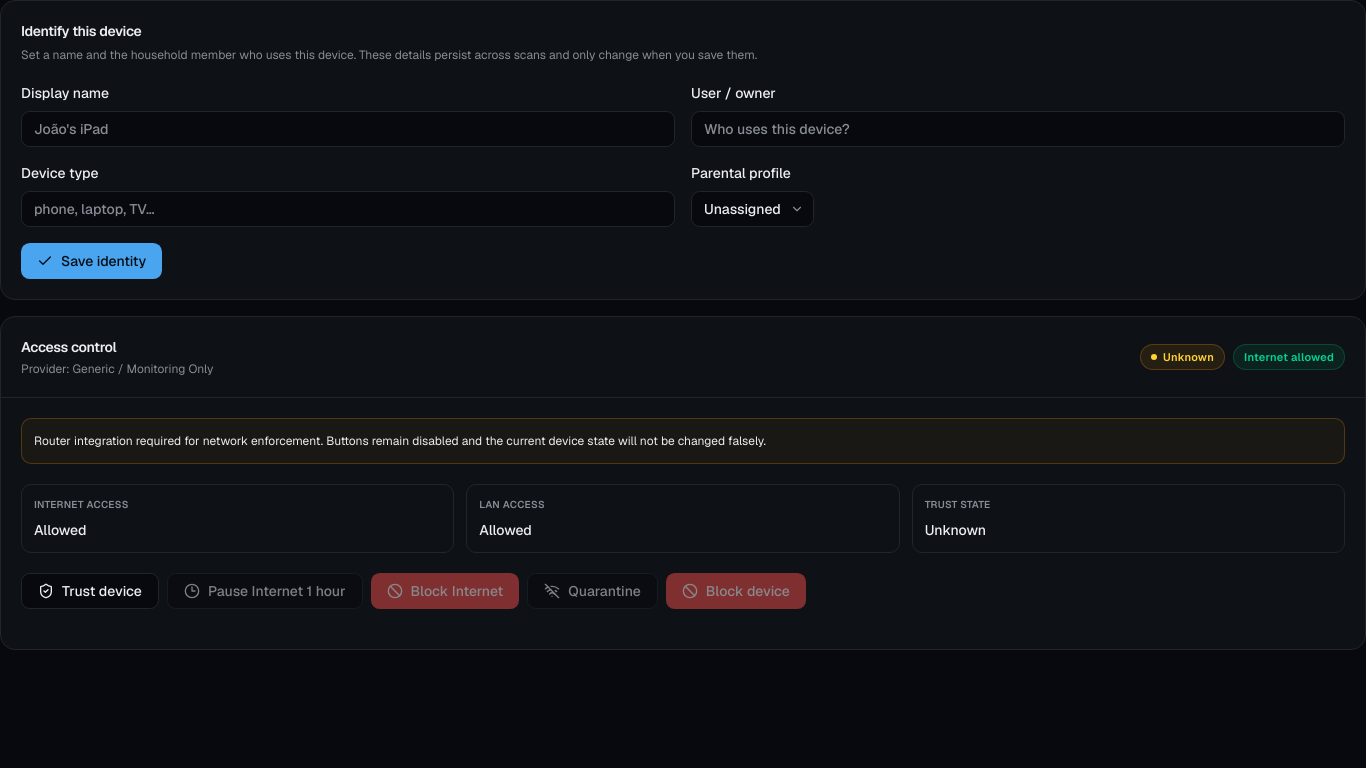
DeviceAccessPanel › keeps unsupported router actions disabled and saves a manual name
expect the button "Pause Internet 1 hour" is disabled: met, box [167,573,363,609]
Type "João's Tablet" into the field labelled "Display name" at (348, 129), box [21,111,675,147]
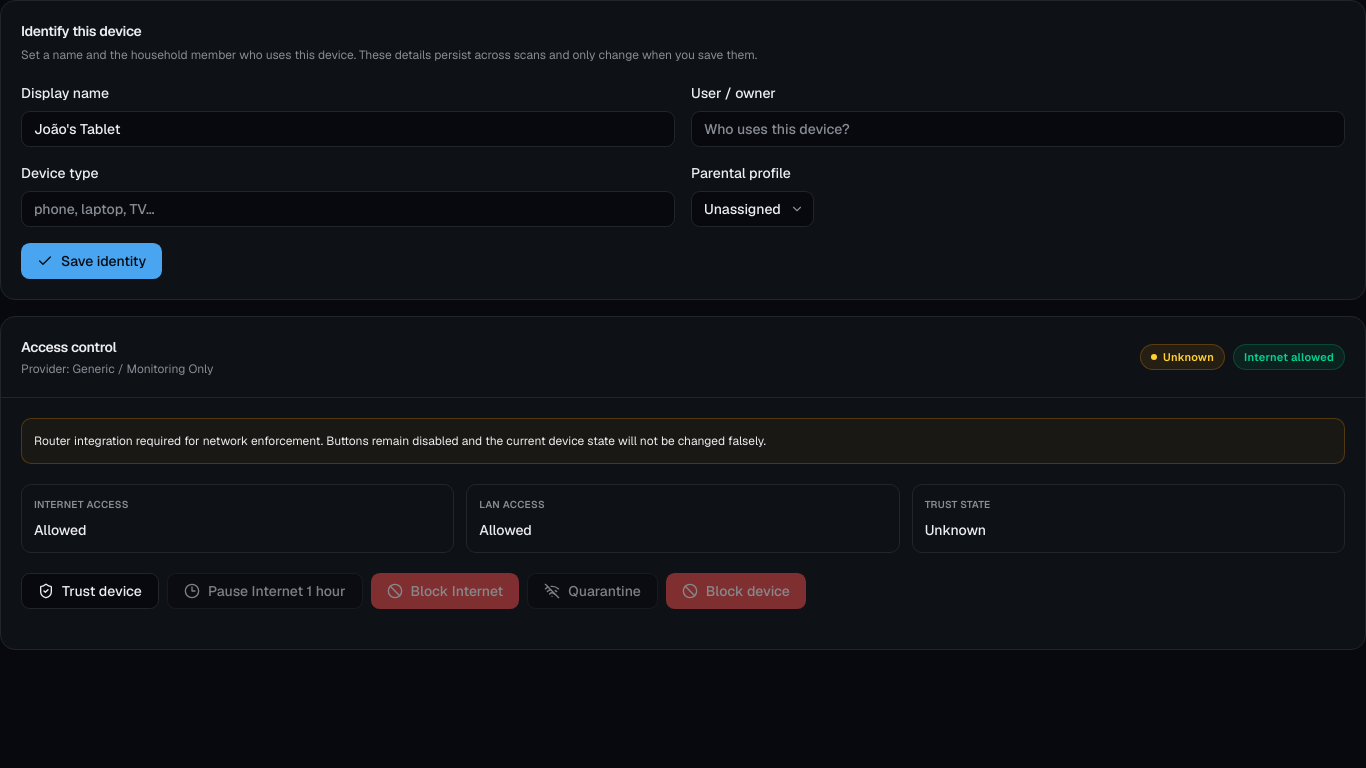
Select "Child" in the dropdown labelled "Parental profile" at (752, 209), box [691,191,814,227]
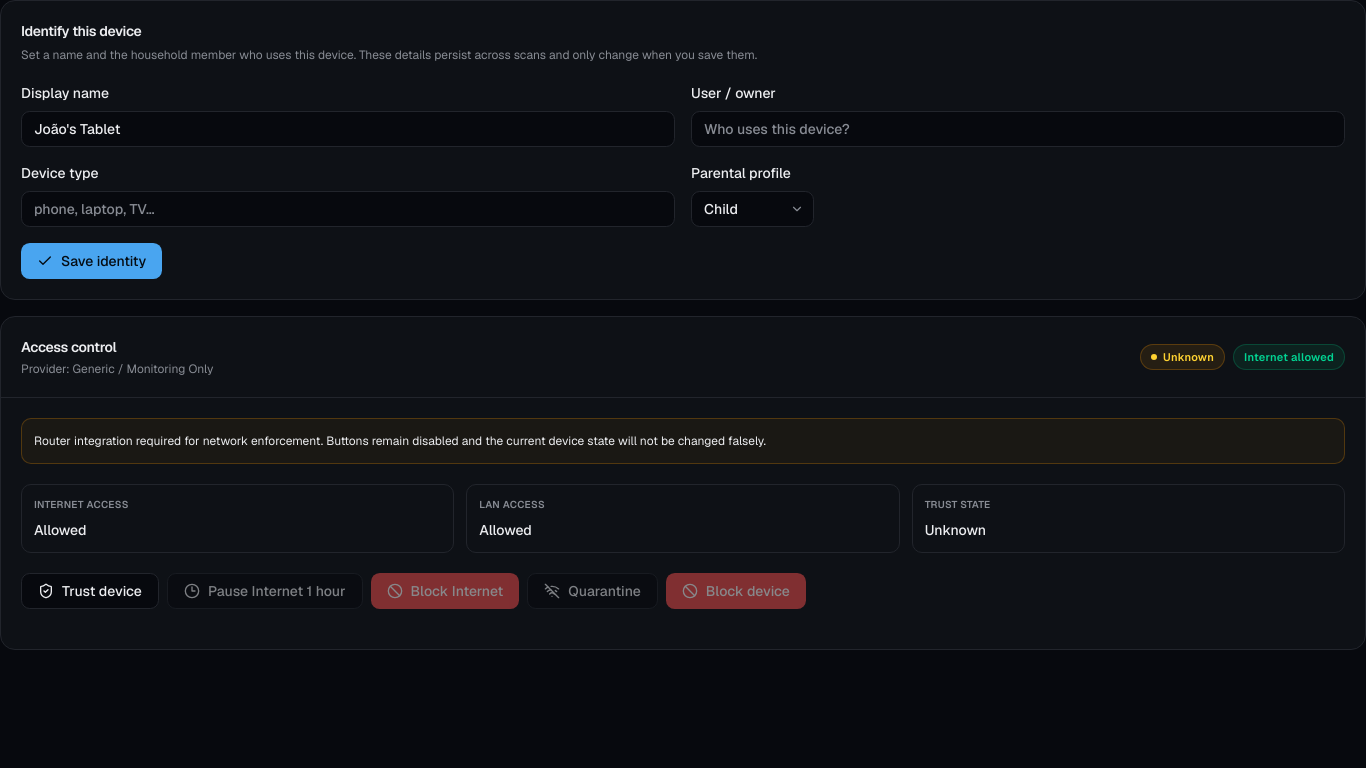
Click the button "Save identity" at (92, 261), box [21,243,162,279]
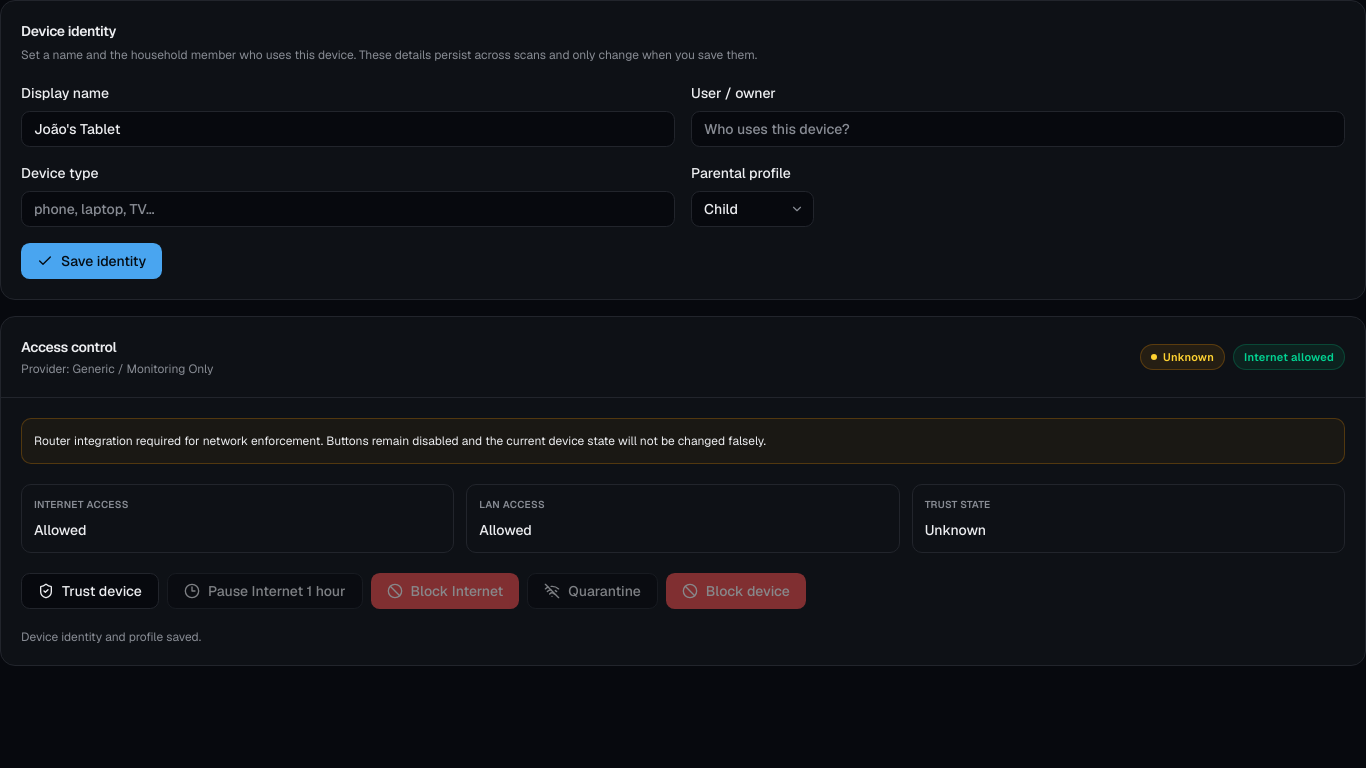
expect the text "Device identity and profile saved." is shown: met, box [21,629,201,645]
